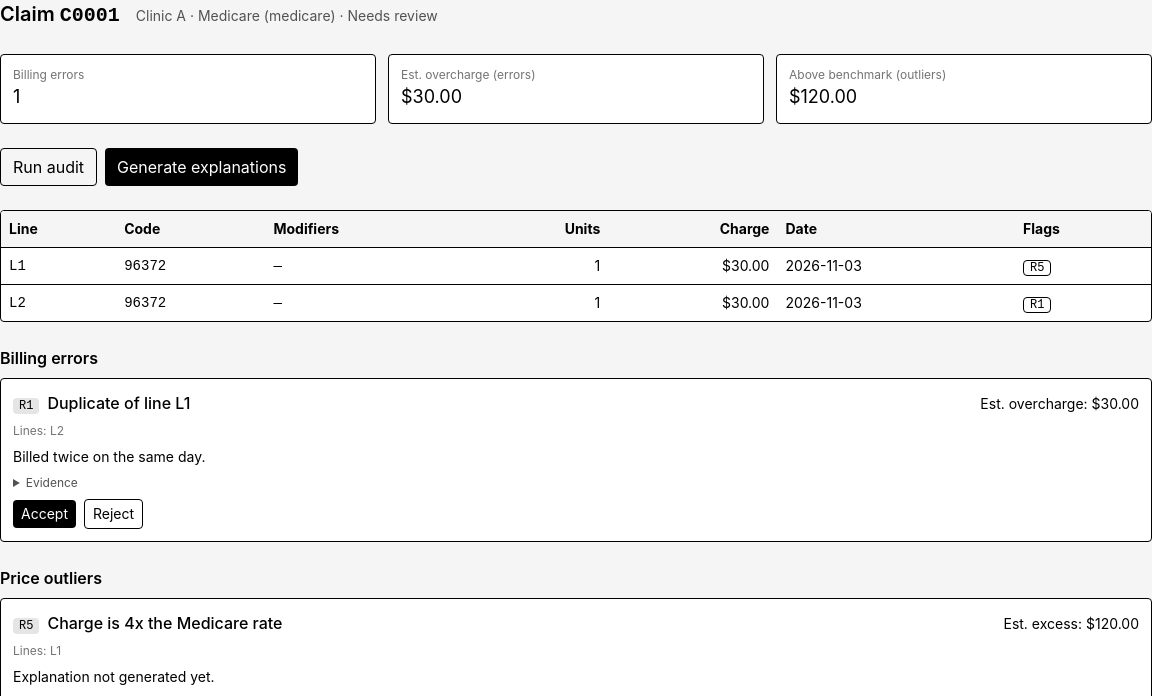
Test: a flag 404 shows the hint only when the workspace is over 24 h old
What coordinates should you click on to do the following:
click the button "Accept"
I would click on:
 (44, 514)
Its box is [13,500,76,528].
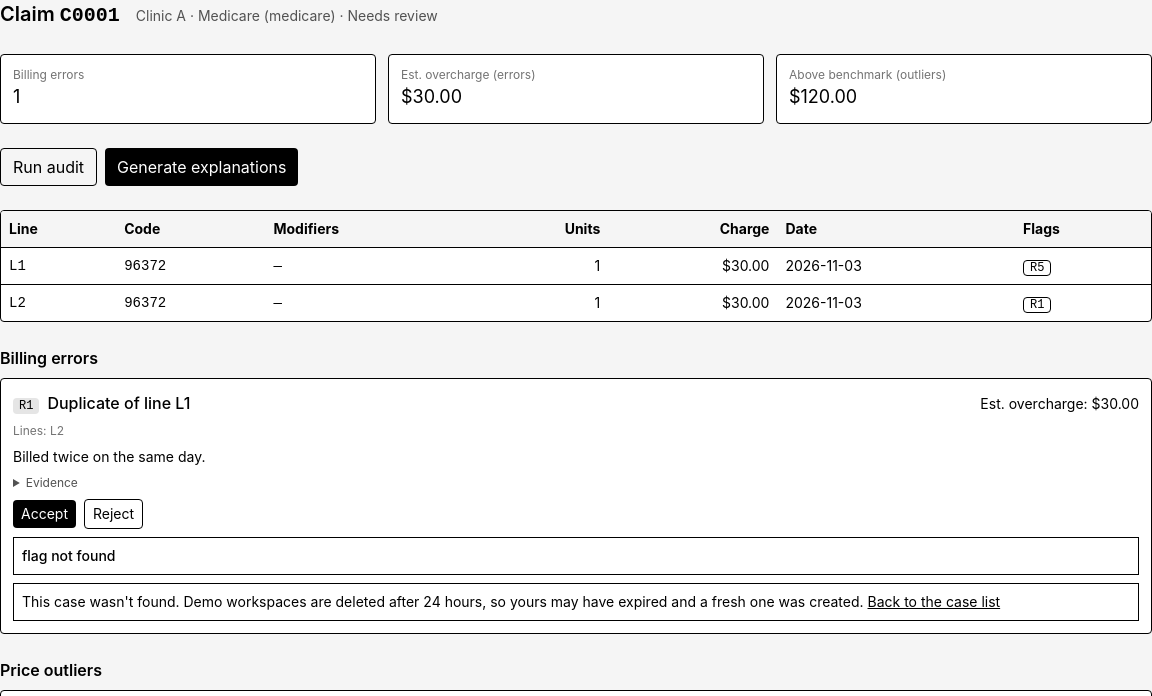
Now the text "Demo workspaces are deleted after 24 hours" is shown, box [22,593,864,610]
